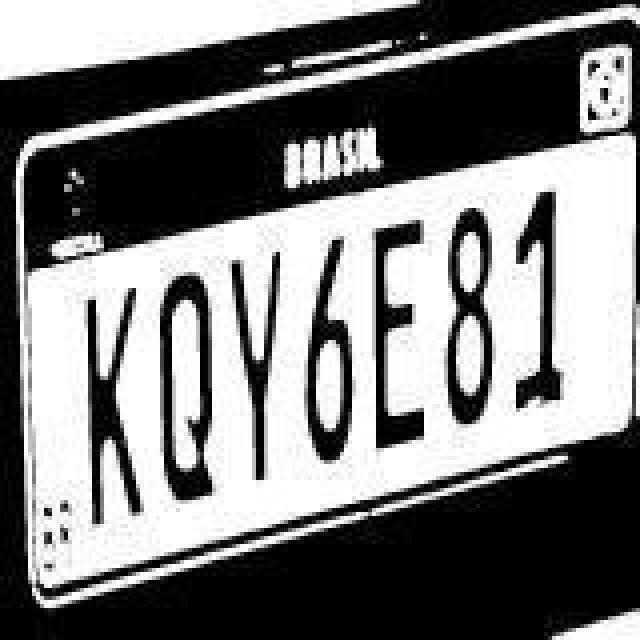1: (504, 180, 568, 428)
6: (296, 230, 360, 474)
8: (442, 202, 502, 438)
E: (368, 212, 432, 460)
K: (78, 282, 146, 534)
Q: (154, 270, 222, 514)
Y: (226, 246, 286, 490)
